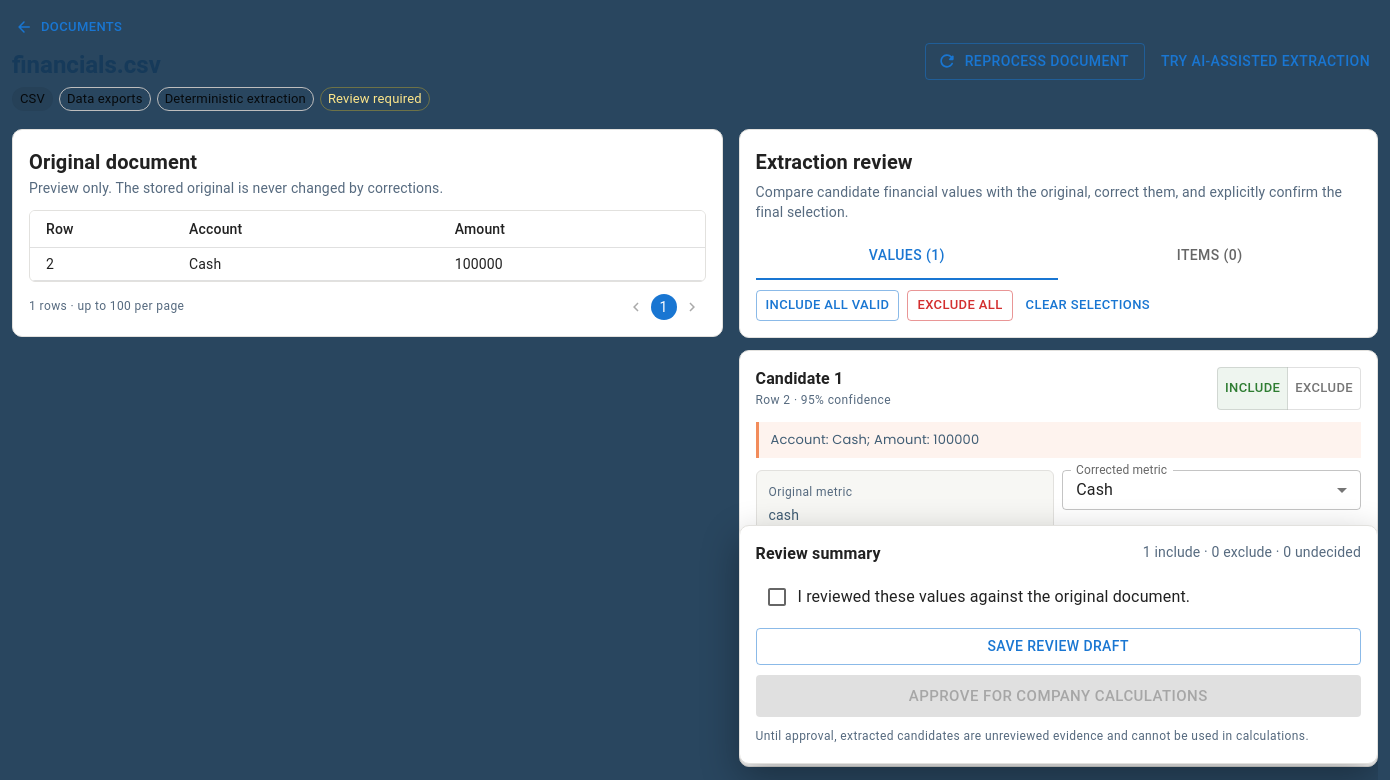
Test: DocumentReviewWorkspace › supports bulk include, exclude, and clear draft selections
The width and height of the screenshot is (1390, 780).
Check: the text "1 include · 0 exclude · 0 undecided" is shown, box left=1143, top=542, right=1361, bottom=566
Click the button "Exclude all" at (960, 305), box left=907, top=290, right=1013, bottom=321
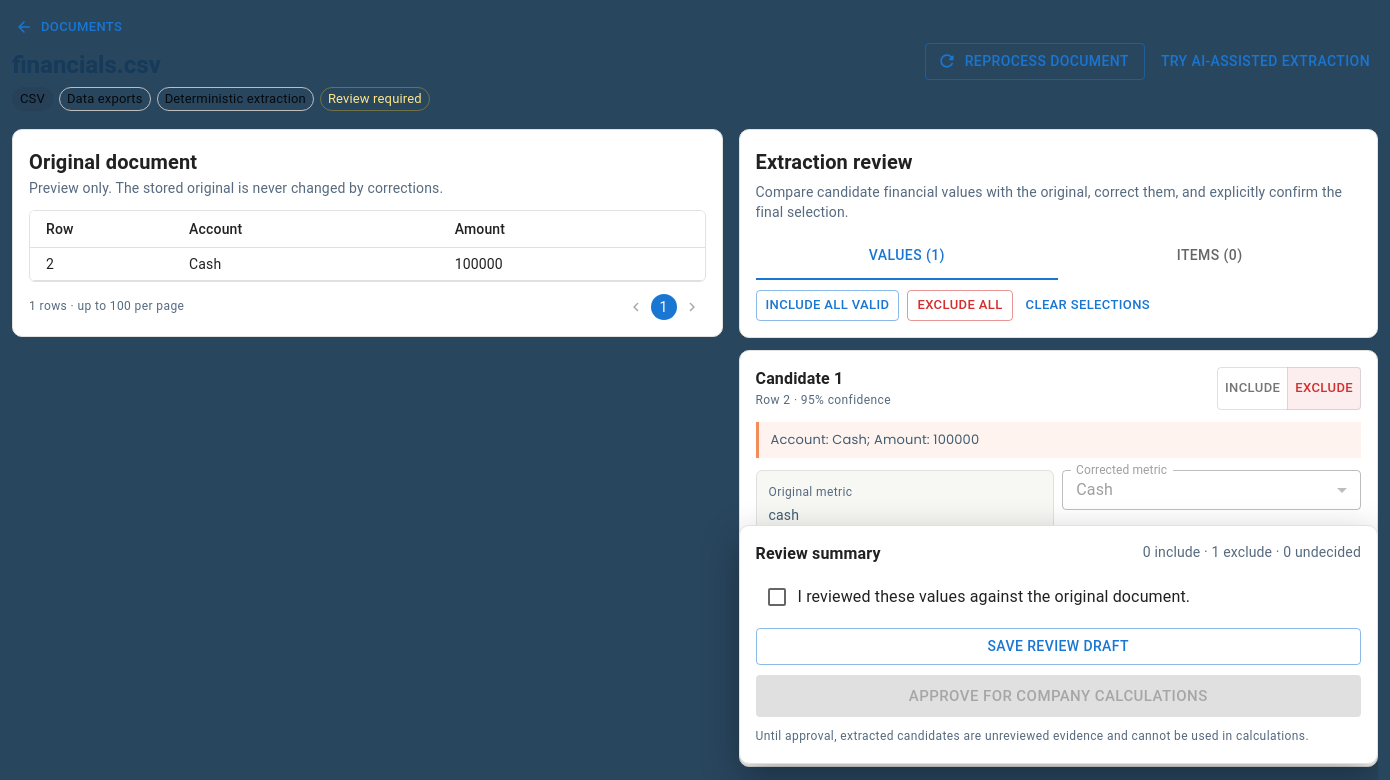
Check: the text "0 include · 1 exclude · 0 undecided" is shown, box left=1143, top=542, right=1361, bottom=566
Click the button "Clear selections" at (1088, 305), box left=1021, top=290, right=1155, bottom=321
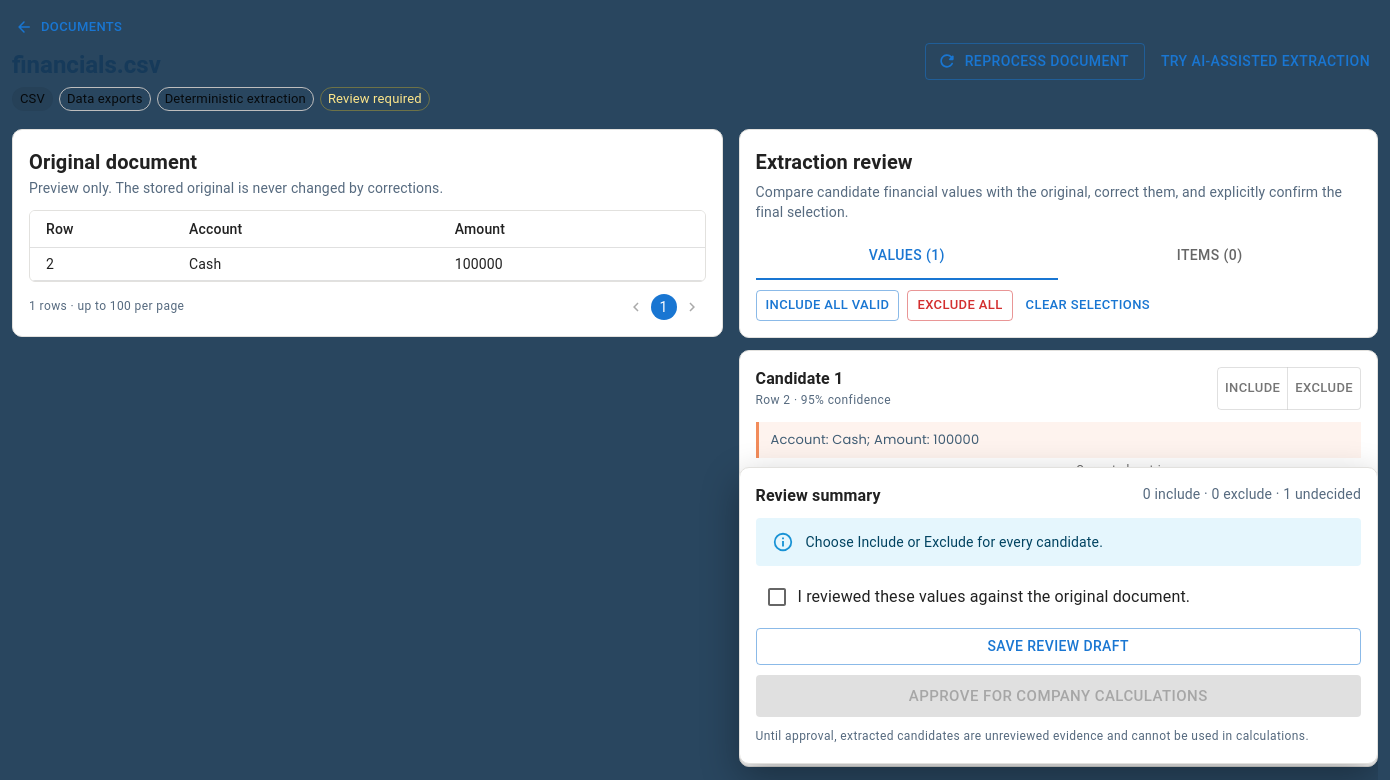
Check: the text "0 include · 0 exclude · 1 undecided" is shown, box left=1143, top=484, right=1361, bottom=508
Click the button "Include all valid" at (827, 305), box left=756, top=290, right=899, bottom=321
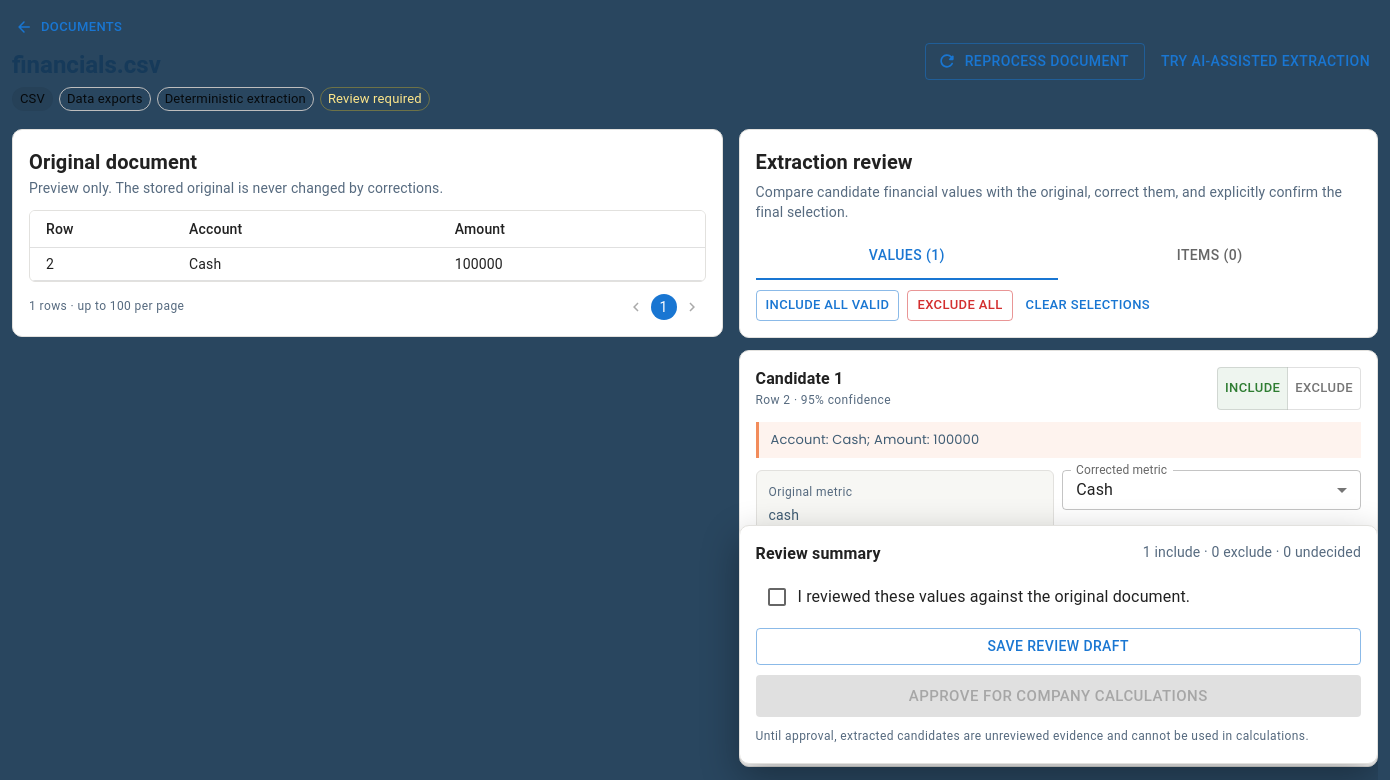
Check: the text "1 include · 0 exclude · 0 undecided" is shown, box left=1143, top=542, right=1361, bottom=566
